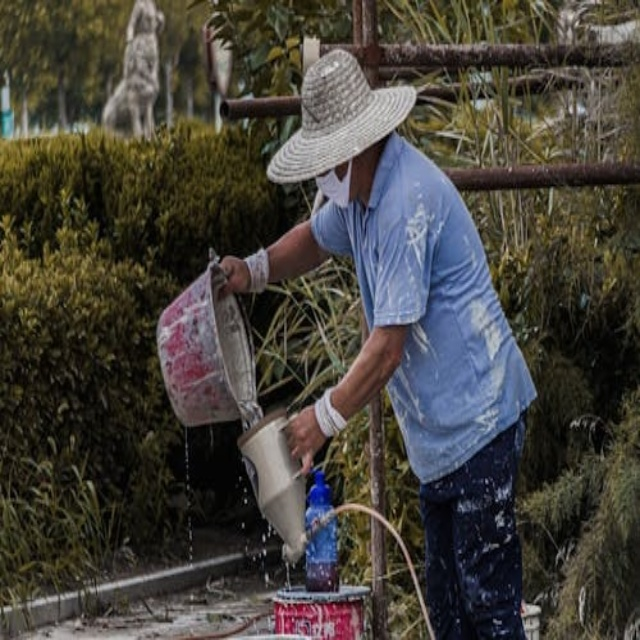Mascara: (315, 155, 355, 208)
Sin_guantes: (282, 394, 338, 474), (218, 249, 262, 298)
